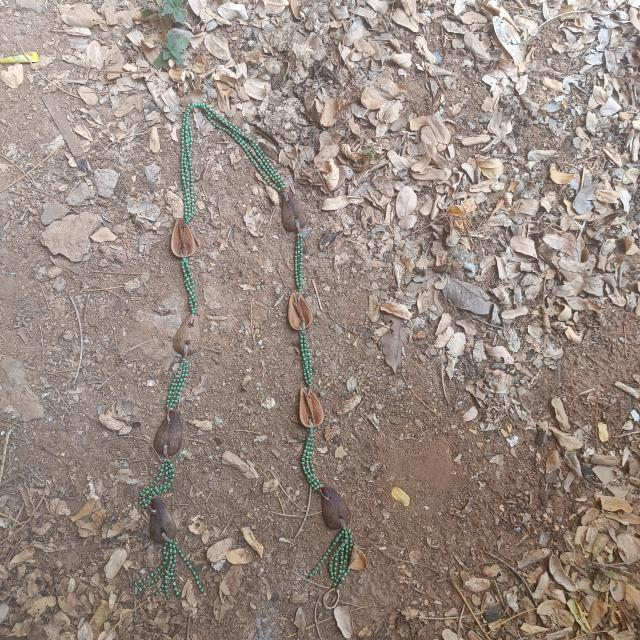facedown: (314, 476, 357, 534), (152, 405, 189, 465), (146, 489, 179, 548), (168, 308, 205, 358), (276, 185, 309, 237)
faceup: (297, 379, 327, 432), (284, 289, 318, 335), (169, 213, 199, 265)
